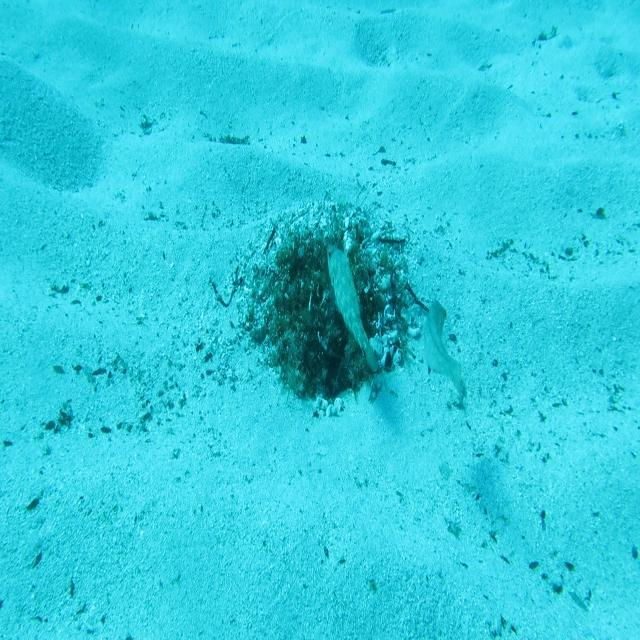BK_SW: (324, 240, 382, 378)
core_nest: (299, 245, 364, 282)
female: (424, 299, 465, 399)
nest: (218, 187, 432, 429)
